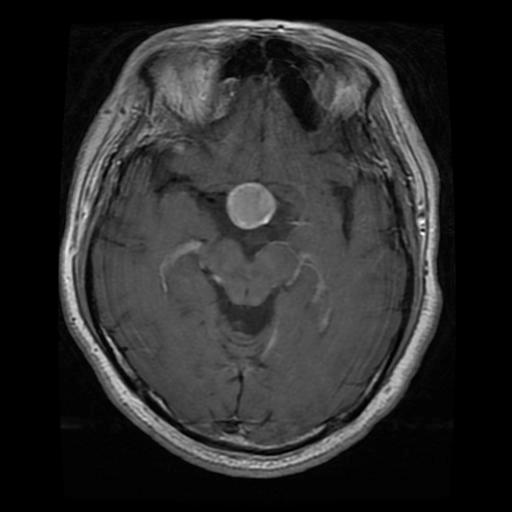Tumour-Pituitary: (217, 182, 281, 231)
